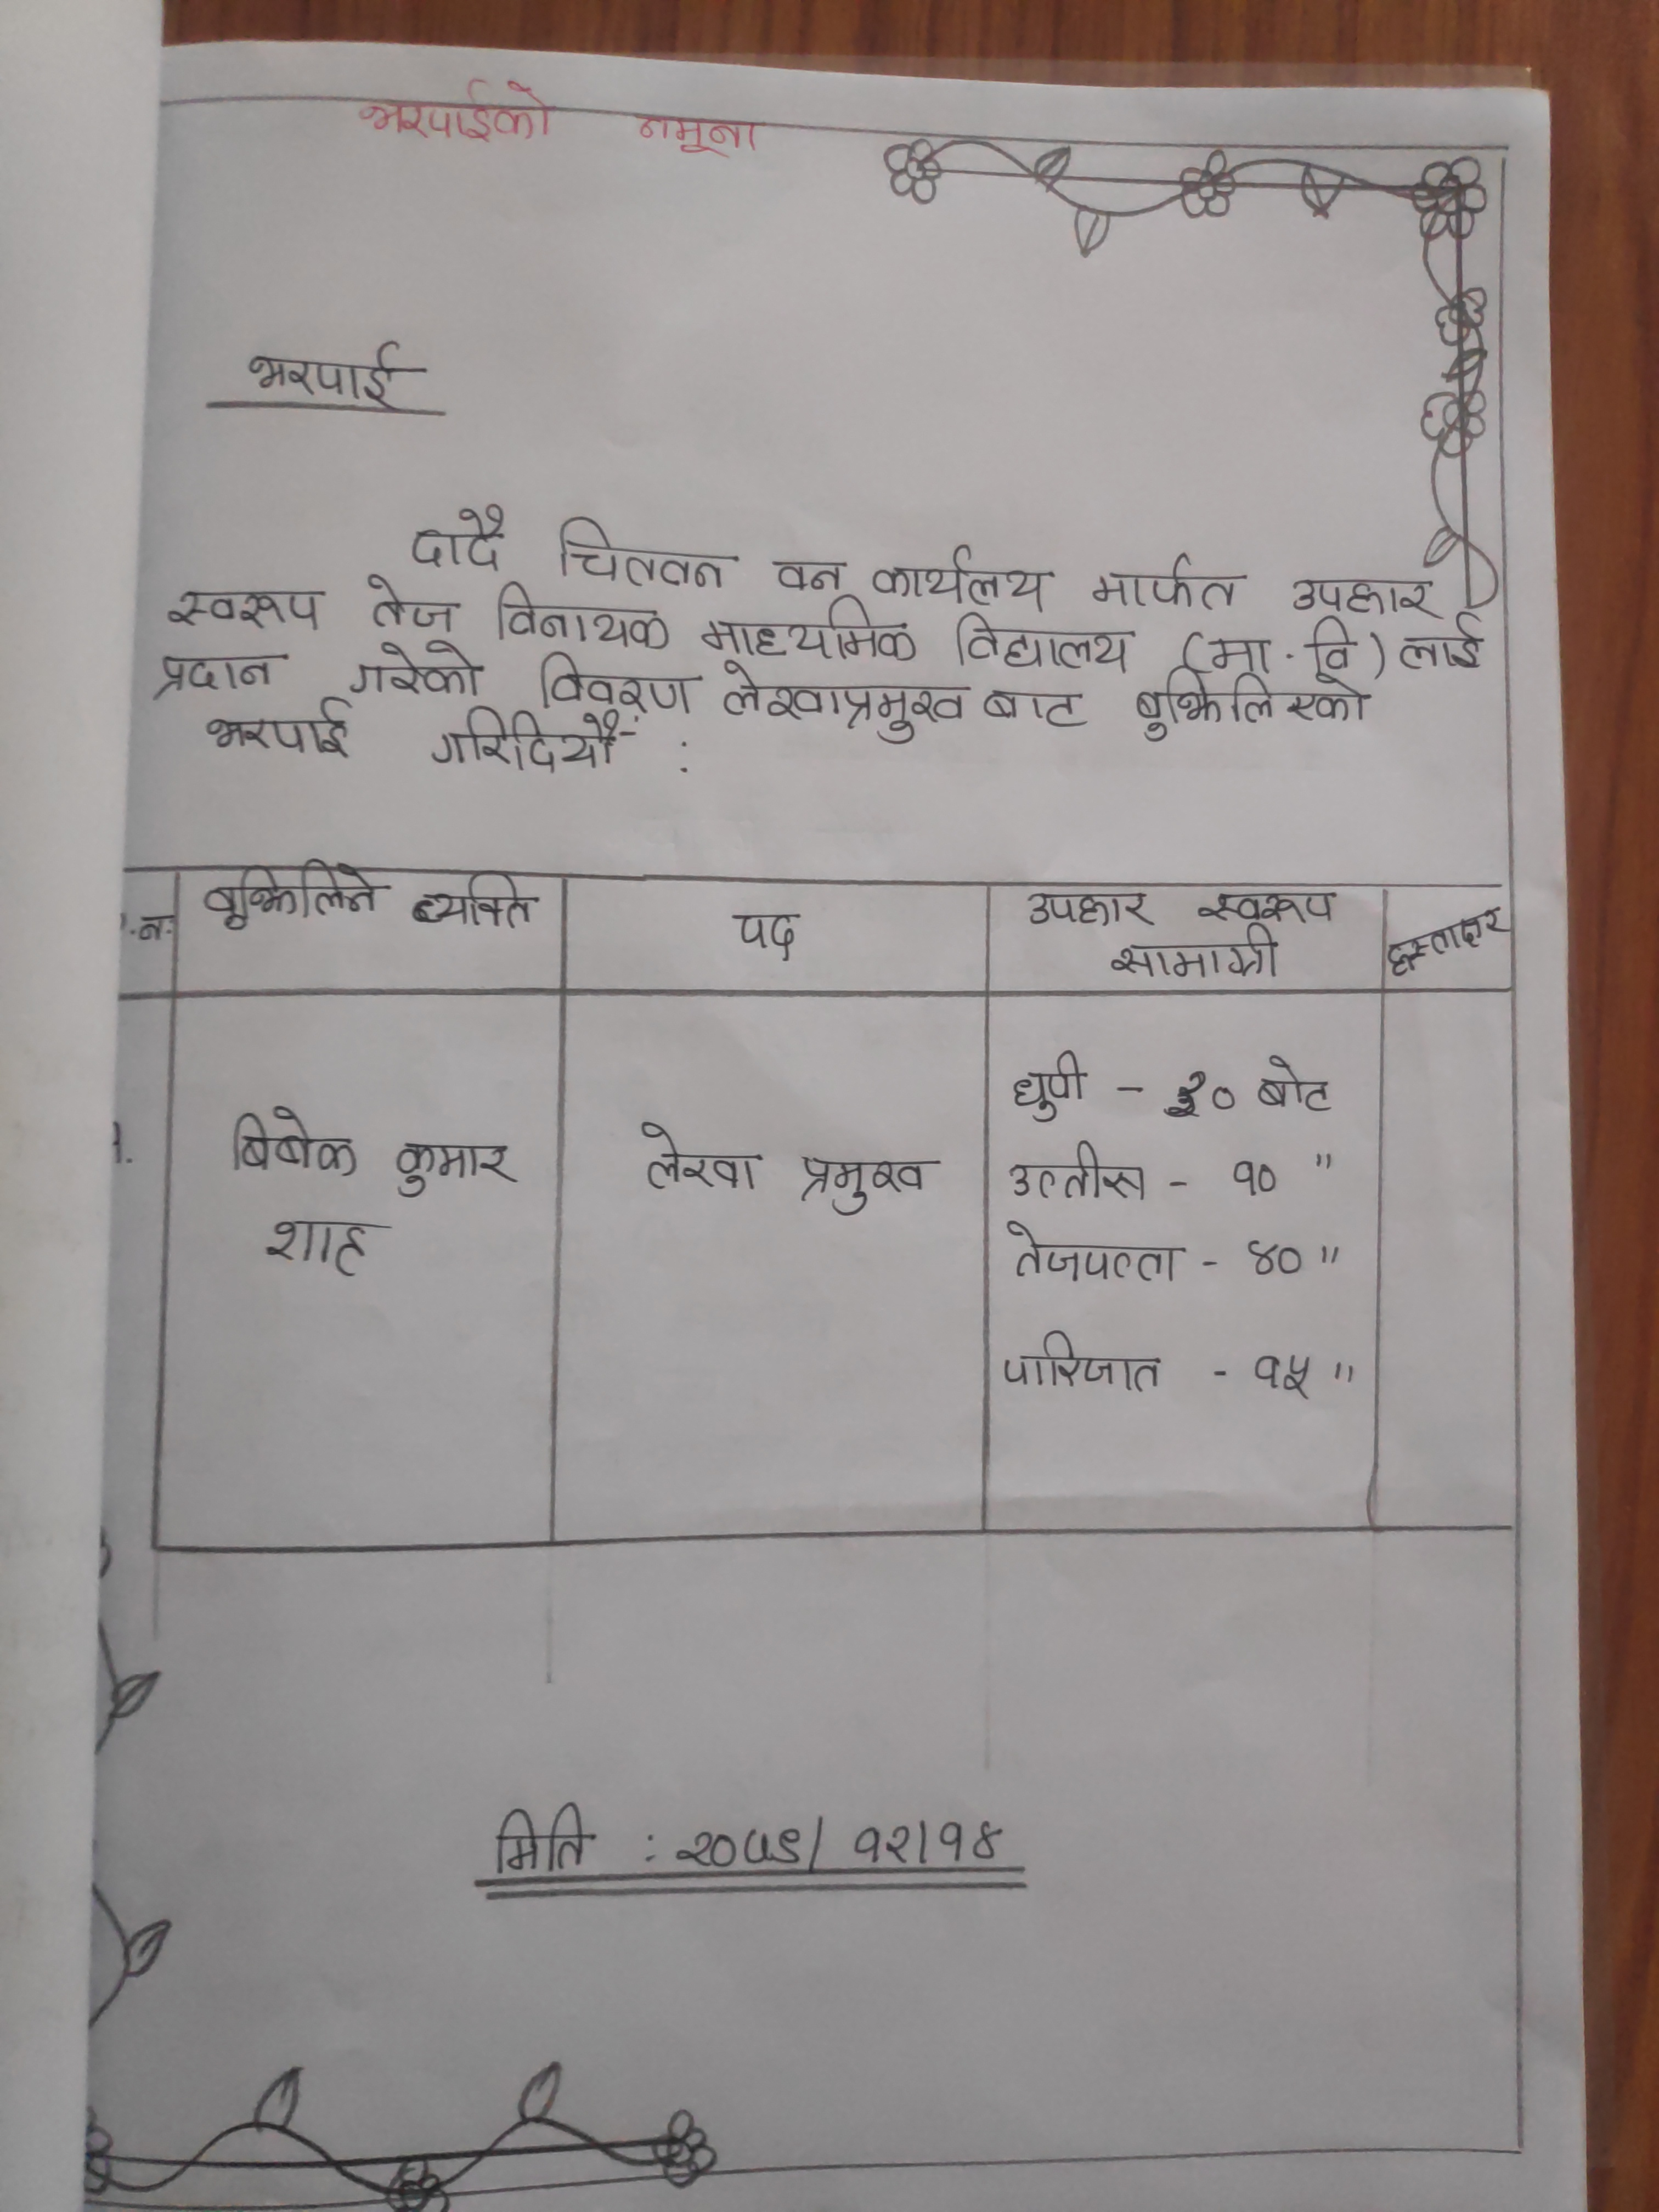text: (716, 660, 972, 749), (1131, 662, 1373, 744), (669, 1813, 1018, 1869), (697, 597, 924, 667), (427, 702, 641, 772), (359, 75, 558, 148), (551, 516, 732, 594), (199, 862, 389, 934), (242, 333, 410, 411), (868, 542, 1053, 611), (950, 606, 1134, 676), (491, 578, 671, 650), (1004, 1221, 1185, 1287), (535, 644, 702, 716), (1000, 1329, 1166, 1400), (223, 1103, 362, 1184), (1105, 923, 1283, 981), (202, 695, 352, 763), (638, 1116, 767, 1195), (1006, 1139, 1154, 1205), (1091, 550, 1244, 613), (347, 637, 488, 702), (1384, 902, 1507, 975), (261, 1216, 390, 1285), (406, 869, 537, 935), (796, 1151, 934, 1214), (389, 1134, 518, 1198), (166, 583, 324, 634), (1284, 571, 1446, 620), (491, 1797, 594, 1874), (410, 502, 514, 571), (146, 648, 284, 700), (634, 110, 765, 162), (361, 570, 467, 631), (1192, 883, 1342, 925), (1396, 611, 1490, 678), (979, 681, 1091, 737), (1007, 1050, 1087, 1125), (1025, 887, 1157, 930), (1253, 1050, 1335, 1118), (730, 902, 805, 961), (1164, 1071, 1239, 1129), (1249, 1346, 1319, 1402), (1204, 627, 1274, 678), (767, 552, 847, 592), (1309, 617, 1361, 678), (1246, 1233, 1307, 1284), (1225, 1155, 1286, 1202)
